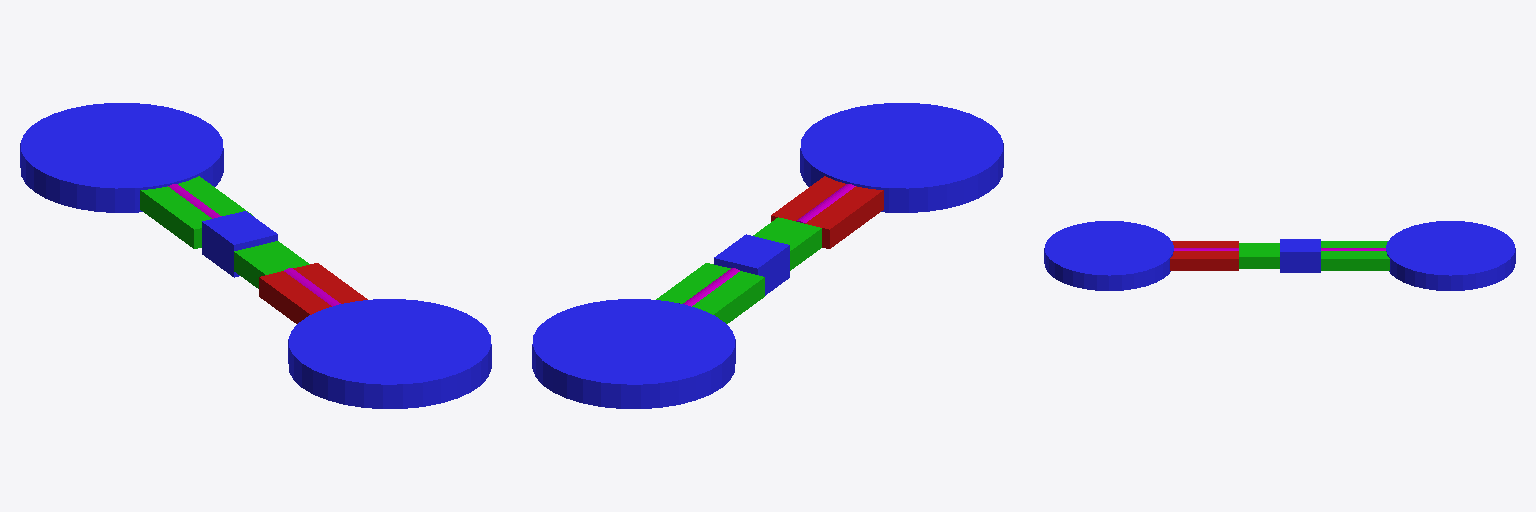
robot.urdf — flexible:
<?xml version="1.0"?>
<robot name="flexible">
  <link name="base_link">
    <visual>
      <geometry>
        <box size=".075 .095 .053"/>
      </geometry>
      <material name="teal">
        <color rgba=".2 .2 1 .95"/>
      </material>
    </visual>
  </link>

  <link name="center_aft">
    <visual>
      <geometry>
        <box size=".075 .095 .032"/>
      </geometry>
      <origin rpy="0 0 0" xyz="0 -0.0475 0"/>
      <material name="green">
        <color rgba=".1 .8 .1 .95"/>
      </material>
    </visual>
  </link>


  <joint name="center_swivel" type="revolute">
    <axis xyz="0 0 -1"/>
    <limit effort="1000.0" lower="-.8" upper=".8" velocity="0.5"/>
    <origin rpy="0 0 0" xyz="0 -0.0475 0"/>
    <parent link="base_link"/>
    <child link="center_aft"/>
  </joint>

  <link name="fore_base_pole">
    <visual>
      <geometry>
        <box size=".100 .032 .162"/>
      </geometry>
      <origin rpy="-1.57075 0 0 " xyz="0 0.081 0"/>
      <material name="green"/>
    </visual>
  </link>

  <joint name="fore_base_pitch" type="revolute">
    <axis xyz="1 0 0"/>
    <limit effort="1000.0" lower="-.6" upper=".6" velocity="0.5"/>
    <origin rpy="0 0 0" xyz="0 .0475 0"/>
    <parent link="base_link"/>
    <child link="fore_base_pole"/>
  </joint>



  <link name="fore_base_prism">
    <visual>
      <geometry>
        <cylinder length="0.15" radius=".018"/>
      </geometry>
      <origin rpy="0 1.57075 0 " xyz=".075 0 0"/>
      <material name="cyan">
	<color rgba=".8 0 .8 1"/>
      </material>
    </visual>
  </link>

  <joint name="fore_extend" type="prismatic">
    <parent link="fore_base_pole"/>
    <child link="fore_base_prism"/>
    <limit effort="1000.0" lower="0" upper="0.15" velocity="0.5"/>
    <origin rpy="0 0 1.57075" xyz="0 0.0 0"/>
  </joint>

  <link name="front_seg">
    <visual>
      <geometry>
        <cylinder length="0.04" radius="0.15"/>
      </geometry>
      <origin rpy="0 0 0" xyz="0.15 0 0"/>
      <material name="teal"/>
    </visual>
  </link>

  <joint name="front_pitch" type="revolute">
    <axis xyz="0 -1 0"/>
    <limit effort="1000.0" lower="-1.2" upper="1.2" velocity="0.5"/>
    <origin rpy="0 0 0" xyz="0.15 0 0"/>
    <parent link="fore_base_prism"/>
    <child link="front_seg"/>
  </joint>







  <link name="aft_base_pole">
    <visual>
      <geometry>
      	<box size=".100 .032 .162"/>
      </geometry>
      <origin rpy="-1.57075 0 0 " xyz="0 -0.081 0"/>
      <material name="red">
      	<color rgba=".8 .1 .1 .95"/>
      </material>
    </visual>
  </link>

  <joint name="aft_base_pitch" type="revolute">
    <axis xyz="-1 0 0"/>
    <limit effort="1000.0" lower="-.6" upper=".6" velocity="0.5"/>
    <origin rpy="0 0 0" xyz="0 -.095 0"/>
    <parent link="center_aft"/>
    <child link="aft_base_pole"/>
  </joint>




  <link name="aft_base_prism">
    <visual>
      <geometry>
        <cylinder length="0.15" radius=".018"/>
      </geometry>
      <origin rpy="0 -1.57075 0 " xyz="0.075 0 0"/>
      <material name="cyan">
	<color rgba=".8 0 .8 1"/>
      </material>
    </visual>
  </link>

  <joint name="aft_extend" type="prismatic">
    <parent link="aft_base_pole"/>
    <child link="aft_base_prism"/>
    <limit effort="1000.0" lower="0" upper="0.15" velocity="0.5"/>
    <origin rpy="0 0 -1.57075" xyz="0 0.0 0"/>
  </joint>

  <link name="rear_seg">
    <visual>
      <geometry>
        <cylinder length="0.04" radius="0.15"/>
      </geometry>
      <origin rpy="0 0 0" xyz="0.15 0 0"/>
      <material name="teal"/>
    </visual>
  </link>

  <joint name="rear_pitch" type="revolute">
    <axis xyz="0 -1 0"/>
    <limit effort="1000.0" lower="-1.2" upper="1.2" velocity="0.5"/>
    <origin rpy="0 0 0" xyz="0.15 0 0"/>
    <parent link="aft_base_prism"/>
    <child link="rear_seg"/>
  </joint>


</robot>

--- Facts derived from the render (not from the file) ---
The picture shows the robot from 3 angles, left to right: view 1: azimuth 30°, elevation 25°; view 2: azimuth 150°, elevation 25°; view 3: azimuth 270°, elevation 25°; orthographic projection.
Robot: flexible — 8 links, 7 joints (5 revolute, 2 prismatic); root link base_link; default pose: every joint at zero.
Visible links, largest first — view 1: rear_seg, front_seg, fore_base_pole, aft_base_pole, base_link, center_aft; view 2: front_seg, rear_seg, aft_base_pole, fore_base_pole, base_link, center_aft; view 3: front_seg, rear_seg, fore_base_pole, aft_base_pole, base_link, center_aft.
Boxes of the visible links, x1,y1,x2,y2 form: rear_seg: (288,299,491,408); front_seg: (20,103,223,212); fore_base_pole: (140,176,252,248); aft_base_pole: (259,263,367,323); base_link: (202,211,277,277); center_aft: (234,241,309,288); front_seg: (532,299,735,408); rear_seg: (800,103,1003,212); aft_base_pole: (771,176,883,248); fore_base_pole: (656,263,764,323); base_link: (714,234,789,295); center_aft: (753,217,821,270); front_seg: (1386,221,1515,290); rear_seg: (1044,221,1173,290); fore_base_pole: (1321,241,1389,270); aft_base_pole: (1170,241,1238,270); base_link: (1280,239,1320,272); center_aft: (1239,243,1279,268).
Size in the robot's own frame: 0.3 by 1.09 by 0.053 metres.
Geometry: primitives only (box / cylinder / sphere), no mesh files.